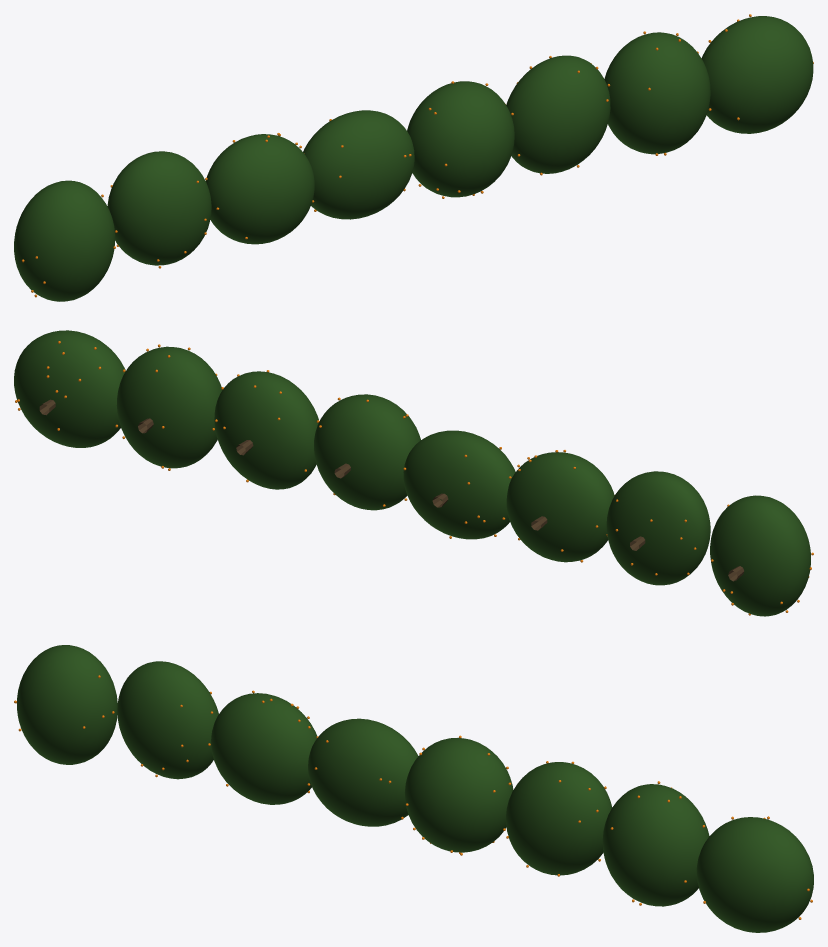
Rendered from citrus_plain8_f_fruit.obj.
The picture shows the model from 3 angles, top to bottom: view 1: azimuth 30°, elevation 25°; view 2: azimuth 150°, elevation 25°; view 3: azimuth 330°, elevation 25°; orthographic projection.
Visible parts, largest first — view 1: canopy, fruit; view 2: canopy, trunk, fruit; view 3: canopy, fruit.
Part boxes in pixels (x1=…): canopy: x1=14, y1=16, x2=813, y2=301; fruit: x1=22, y1=14, x2=813, y2=297; canopy: x1=14, y1=330, x2=810, y2=616; trunk: x1=39, y1=399, x2=744, y2=581; fruit: x1=15, y1=341, x2=813, y2=615; canopy: x1=17, y1=645, x2=813, y2=932; fruit: x1=14, y1=675, x2=812, y2=919.
Bounding box in the file's own units: 24.16 × 3.54 × 2.85.
